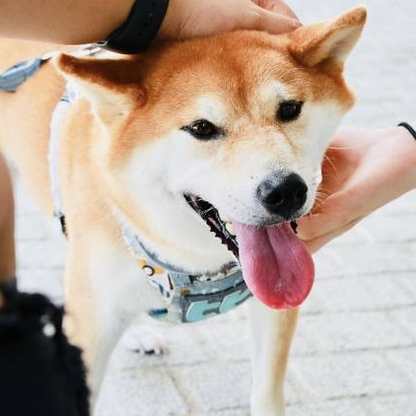shiba: (1, 2, 378, 416)
